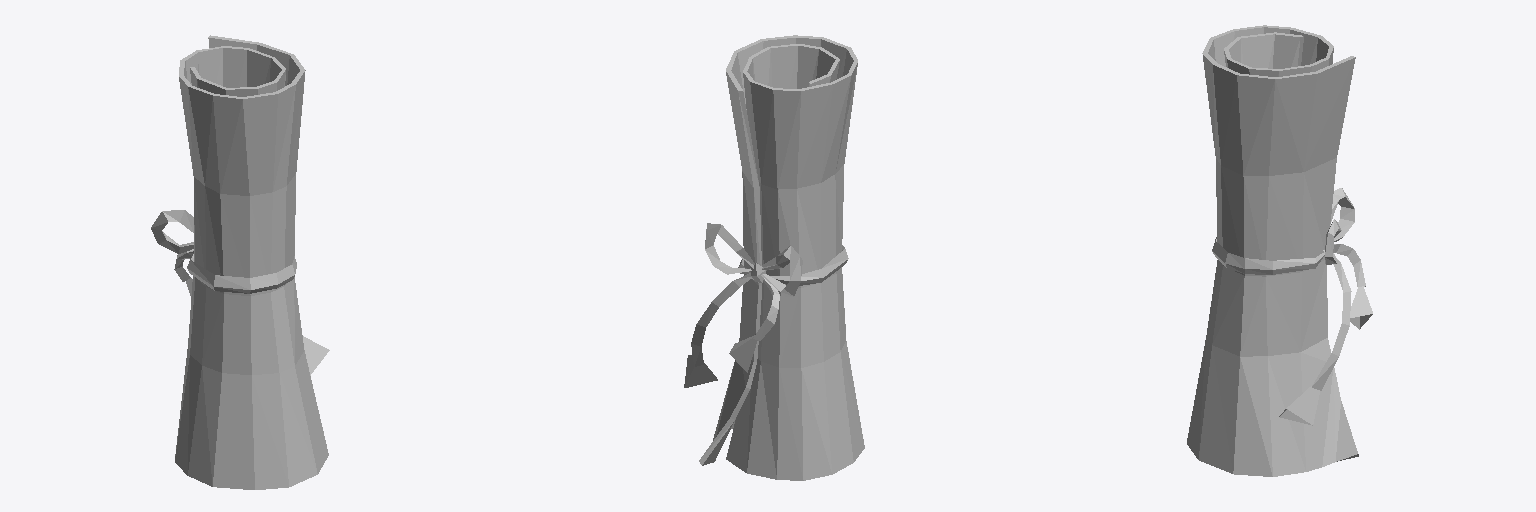
Rendered from TriforceChart.obj.
3 views of the same model, side by side, from view 1: azimuth 30°, elevation 25°; view 2: azimuth 150°, elevation 25°; view 3: azimuth 270°, elevation 25° (orthographic).
Visible parts, largest first — view 1: chart_triforce; view 2: chart_triforce; view 3: chart_triforce.
Boxes of the visible parts, <box> form: chart_triforce: <box>151,35,329,489</box>; chart_triforce: <box>684,35,864,480</box>; chart_triforce: <box>1187,25,1372,476</box>.
Size of the model in its own units: 16.72 by 40.39 by 17.56.